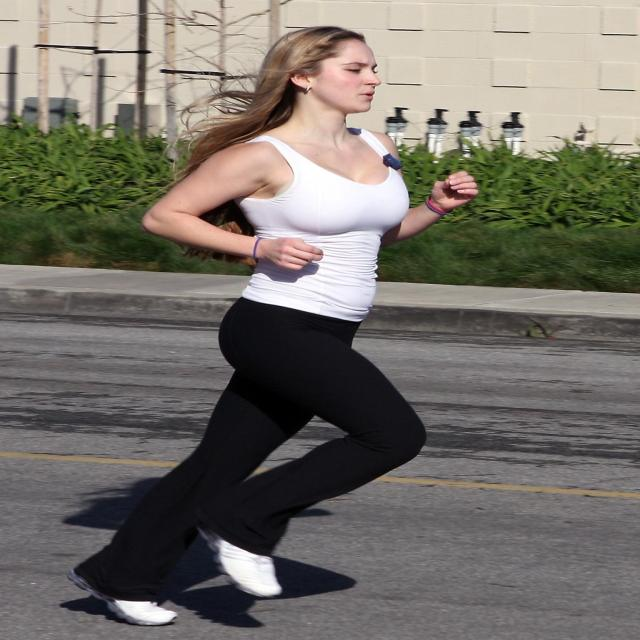Face: (293, 36, 387, 113)
